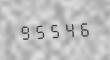five: (33, 21, 47, 40), (48, 20, 62, 39)
four: (63, 19, 77, 38)
nine: (18, 21, 32, 41)
six: (78, 18, 92, 38)
